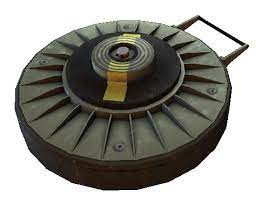car: (11, 0, 256, 197)
